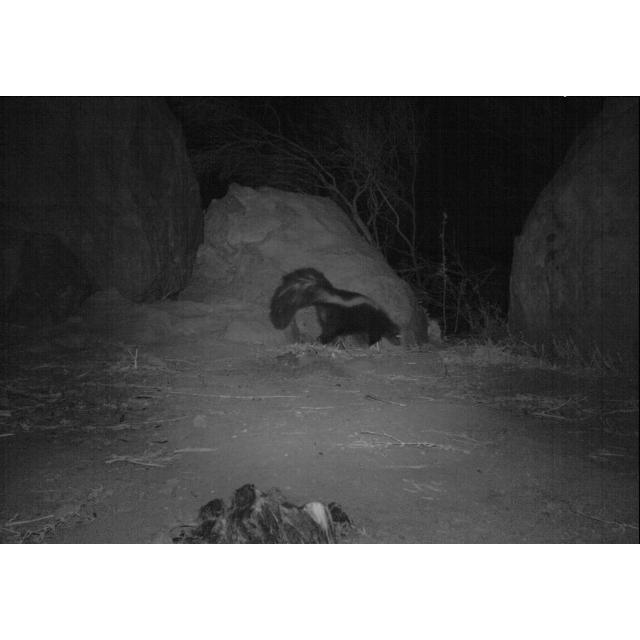animals: (268, 264, 407, 350)
